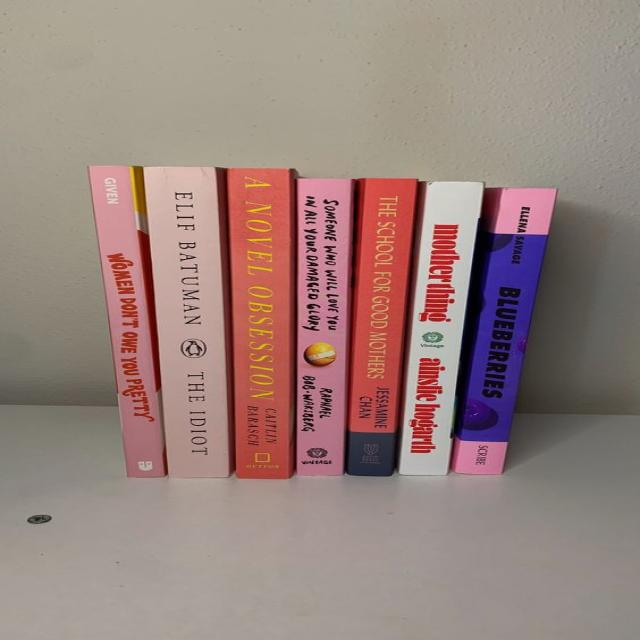book: (453, 188, 555, 474), (144, 167, 230, 478), (398, 182, 482, 475), (91, 166, 166, 477), (345, 178, 418, 476), (227, 169, 294, 478), (296, 178, 353, 476)
